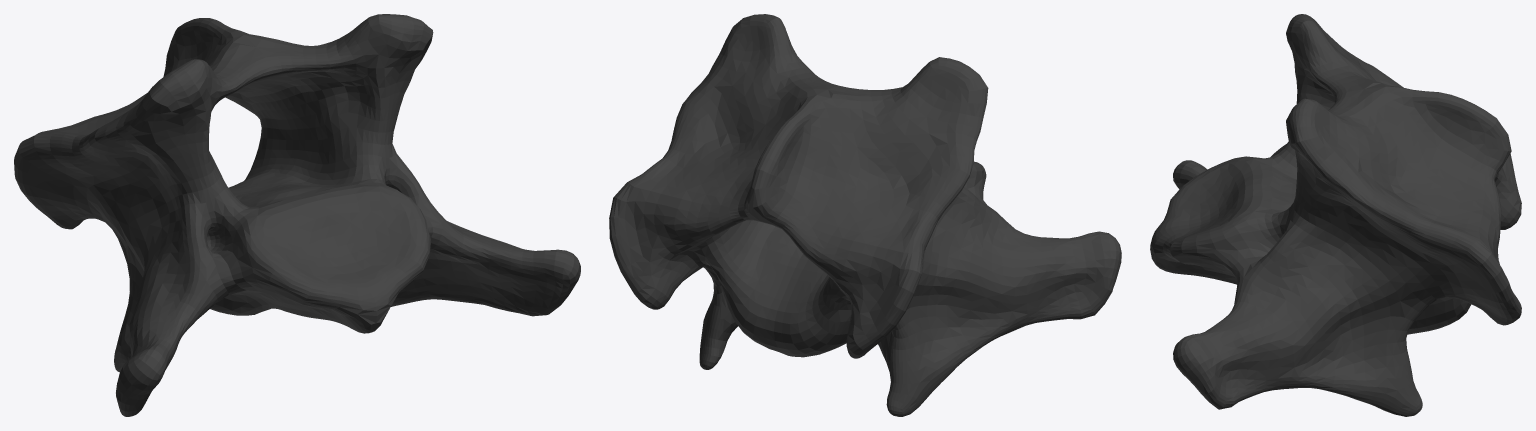
3 views of the same model, side by side, from view 1: azimuth 30°, elevation 25°; view 2: azimuth 150°, elevation 25°; view 3: azimuth 270°, elevation 25° (orthographic). The views are drawn at different scales.
Visible parts, largest first — view 1: B_C4; view 2: B_C4; view 3: B_C4.
Part boxes in pixels (x1=…): B_C4: x1=14, y1=14, x2=580, y2=416; B_C4: x1=609, y1=14, x2=1121, y2=416; B_C4: x1=1150, y1=14, x2=1521, y2=416.
Size of the model in its own units: 0.00278 by 0.00204 by 0.00223.
1 material, 1 textured.
